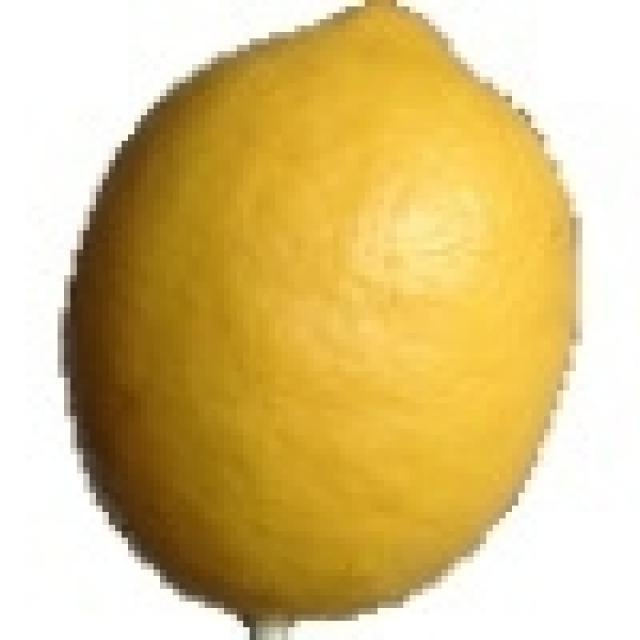lemon: (66, 0, 574, 628)
